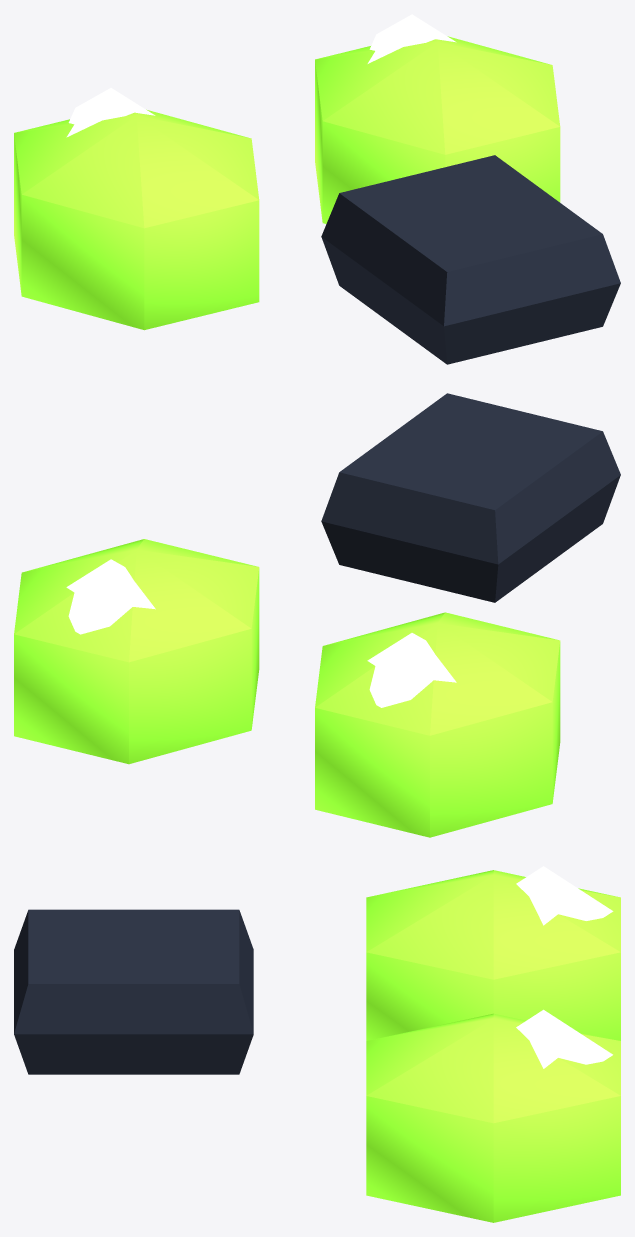
File: bf_elite_auto_aim.glb
3 renders of one model, top to bottom at view 1: azimuth 30°, elevation 25°; view 2: azimuth 150°, elevation 25°; view 3: azimuth 270°, elevation 25°, orthographic. The views are drawn at different scales.
Parts seen in each view (by area): view 1: ELITE // COMPOUND EYES; view 2: ELITE // COMPOUND EYES; view 3: ELITE // COMPOUND EYES.
Part boxes in pixels (<box>): ELITE // COMPOUND EYES: <box>14,14,620,364</box>; ELITE // COMPOUND EYES: <box>14,393,620,837</box>; ELITE // COMPOUND EYES: <box>14,866,620,1222</box>.
Bounding box in the file's own units: 0.2549 × 0.0978 × 0.2582.
